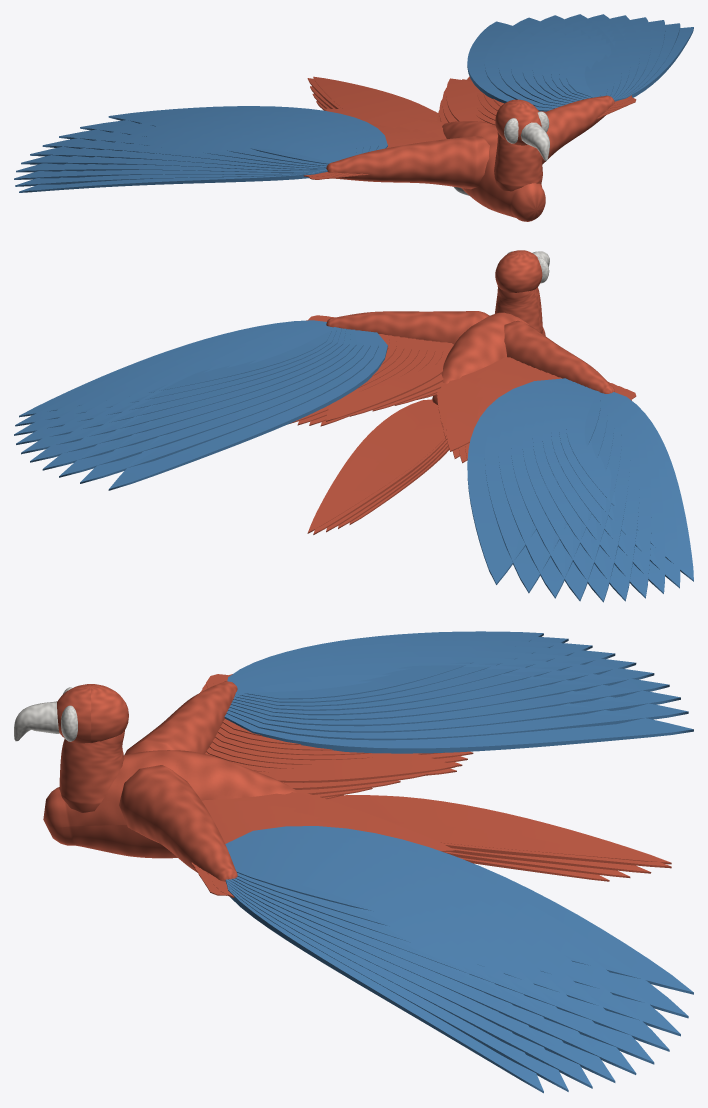
The model's file is birds-and-reptiles-hd-scarlet-macaw-in-flight-199d422b__28098.glb.
3 renders of one model, top to bottom at view 1: azimuth 30°, elevation 25°; view 2: azimuth 150°, elevation 25°; view 3: azimuth 270°, elevation 25°, orthographic. The views are drawn at different scales.
Visible parts, largest first — view 1: scarlet-macaw-in-flight; view 2: scarlet-macaw-in-flight; view 3: scarlet-macaw-in-flight.
Part boxes in pixels (left/top/right/bottom): scarlet-macaw-in-flight: left=14, top=14, right=693, bottom=221; scarlet-macaw-in-flight: left=14, top=250, right=693, bottom=602; scarlet-macaw-in-flight: left=14, top=631, right=693, bottom=1093.
Bounding box in the file's own units: 1.69 × 0.3159 × 1.06.
Materials: 7 (5 with a texture image).
